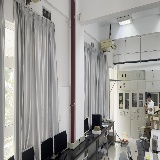fire: (121, 130, 126, 142)
